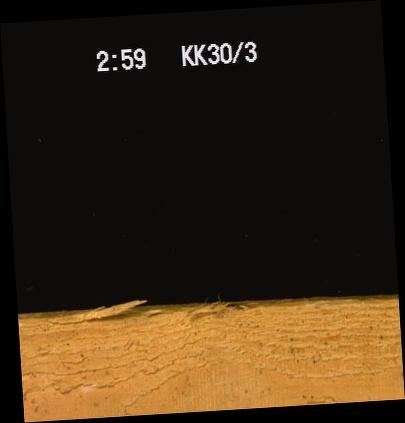split: (45, 309, 141, 324)
